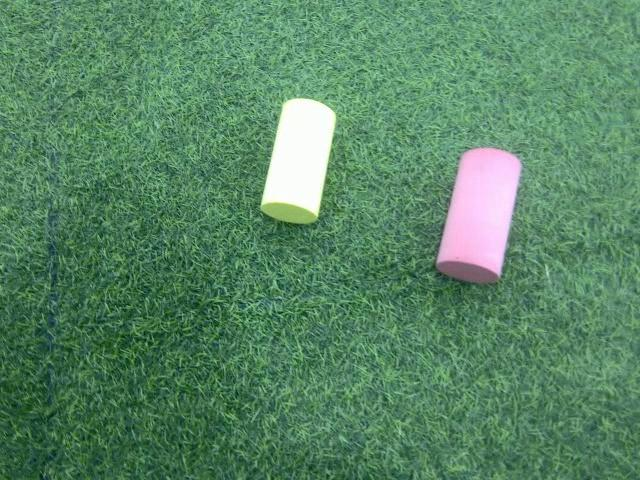red_cylinder: (433, 145, 522, 288)
